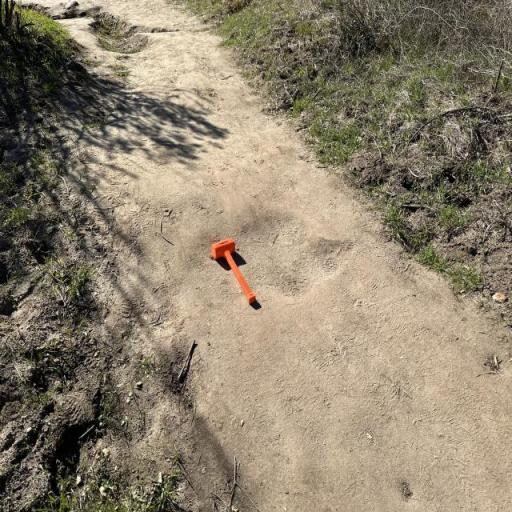mallet: (212, 238, 256, 304)
